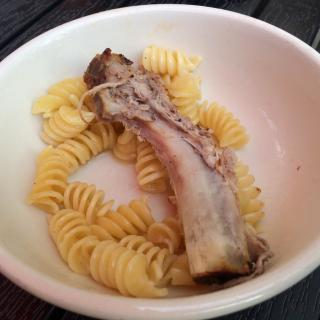Pasta: (32, 45, 254, 298)
